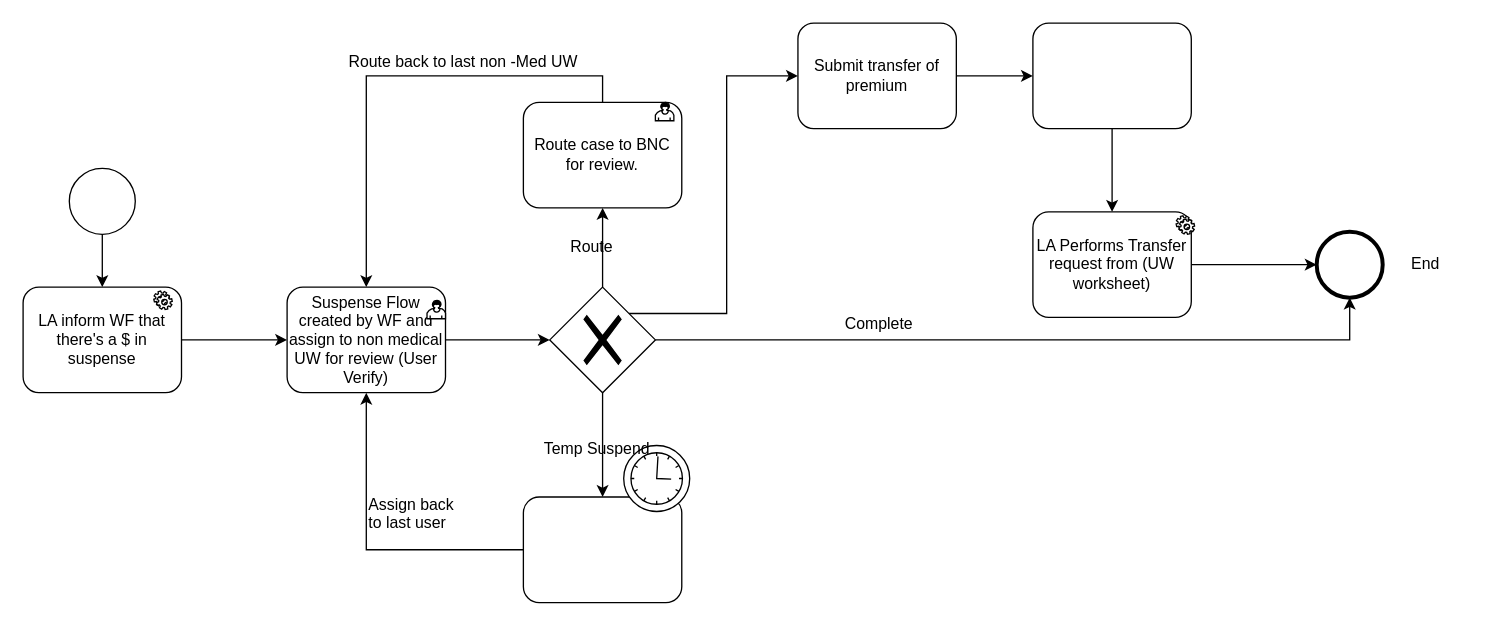
Image size: 1485x626. Some labels were removed from this diagram. Here are the shapes that lost their labels. From the top down, the centre of each, then its label:
At point (1111, 75): "Approve transfer of premium".
At point (602, 549): "Suspend".
